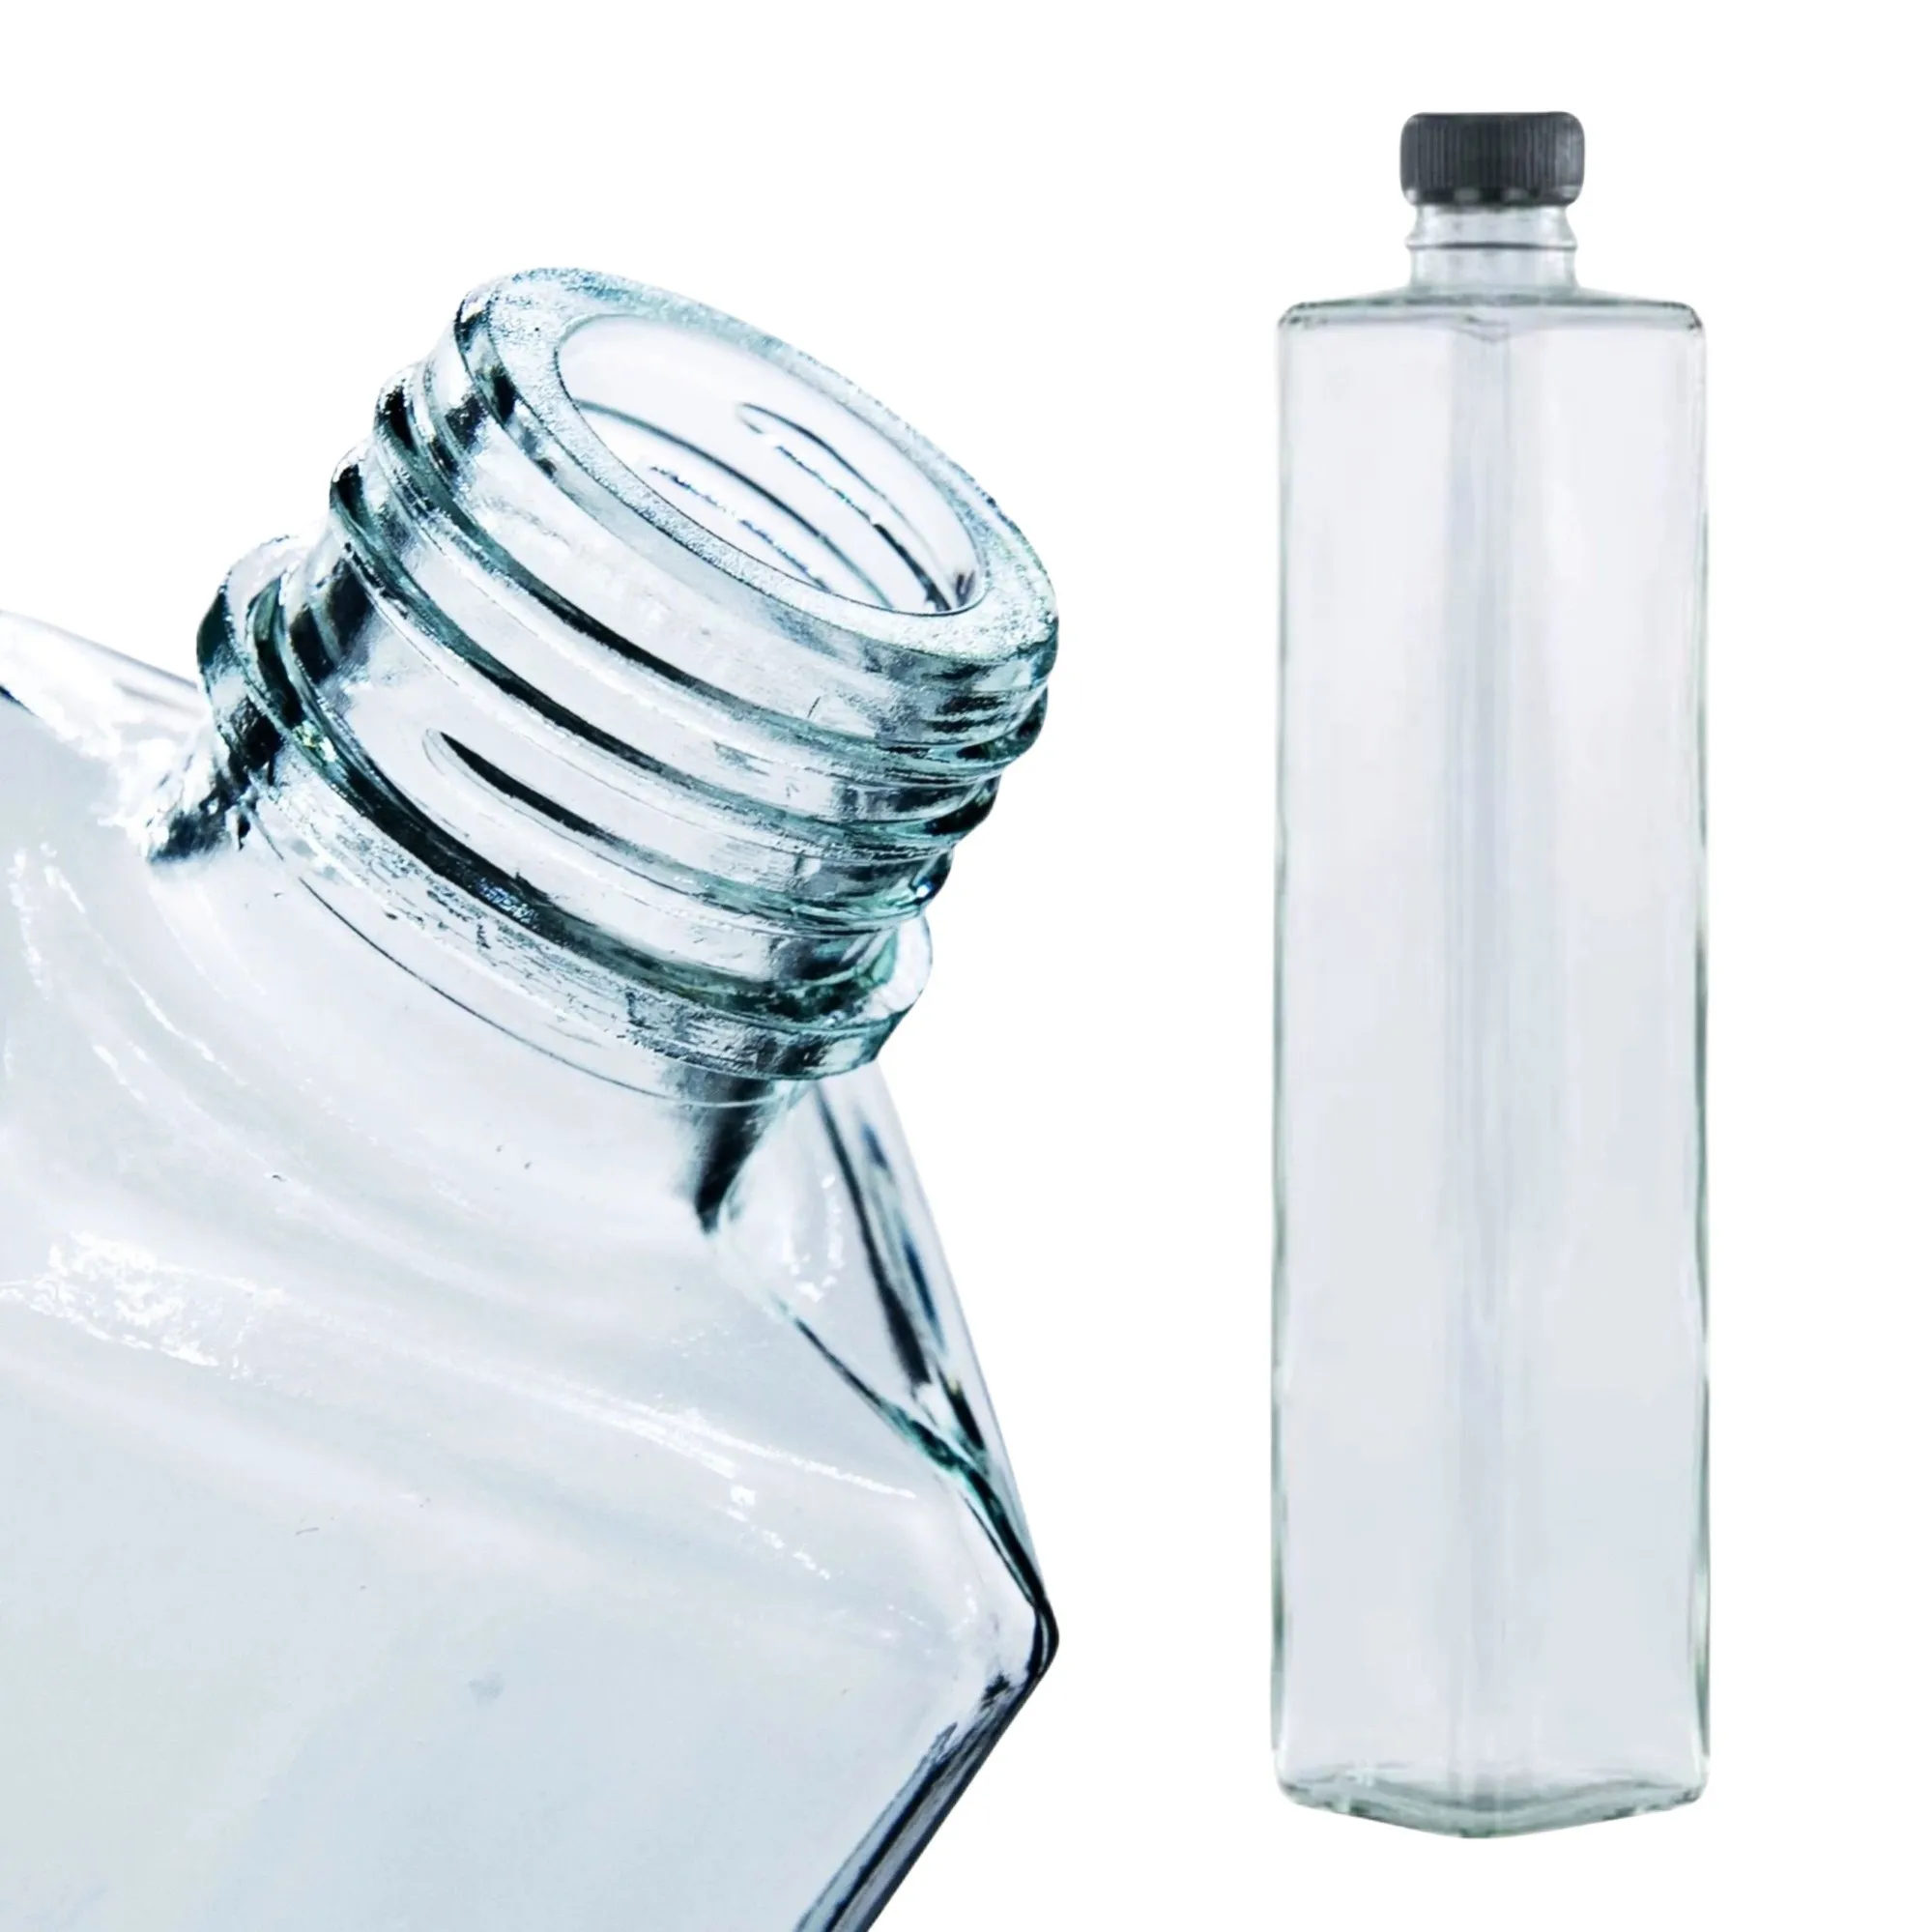glass_bottle: (1201, 65, 1764, 1868)
